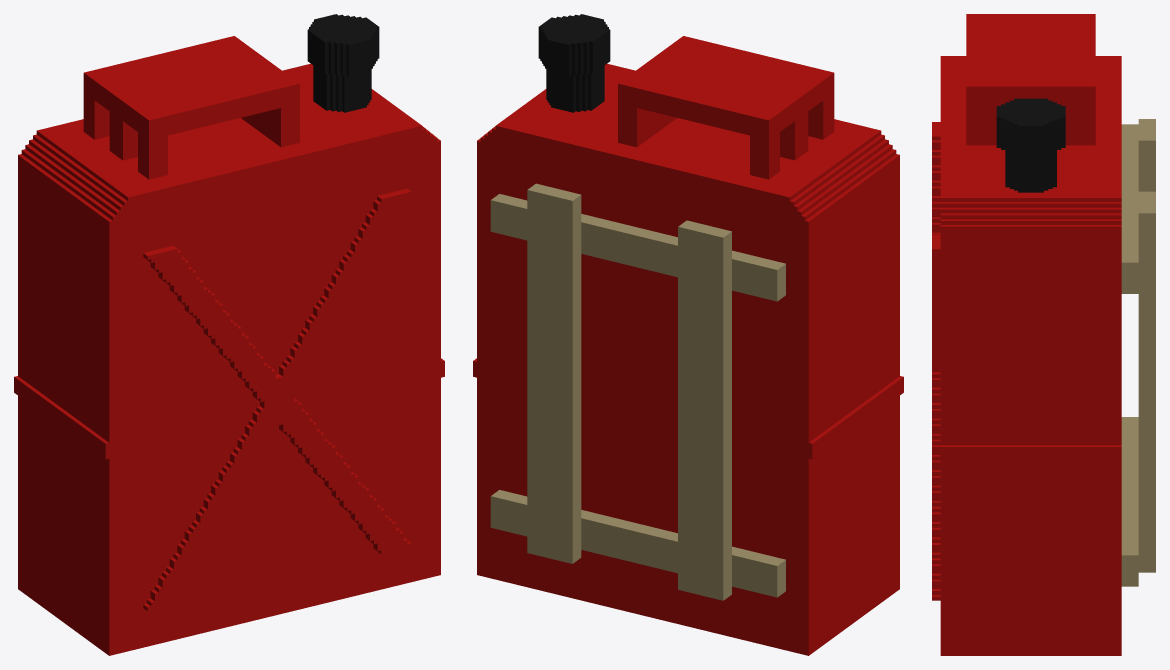
Rendered from jerrypack.glb.
3 views of the same model, side by side, from view 1: azimuth 30°, elevation 25°; view 2: azimuth 150°, elevation 25°; view 3: azimuth 270°, elevation 25° (orthographic).
Visible parts, largest first — view 1: jerrypack:compound; view 2: jerrypack:compound; view 3: jerrypack:compound.
Part boxes in pixels (<box>): jerrypack:compound: <box>14,14,444,655</box>; jerrypack:compound: <box>473,14,903,655</box>; jerrypack:compound: <box>932,14,1155,655</box>.
Bounding box in the file's own units: 0.36 × 0.532 × 0.208.
